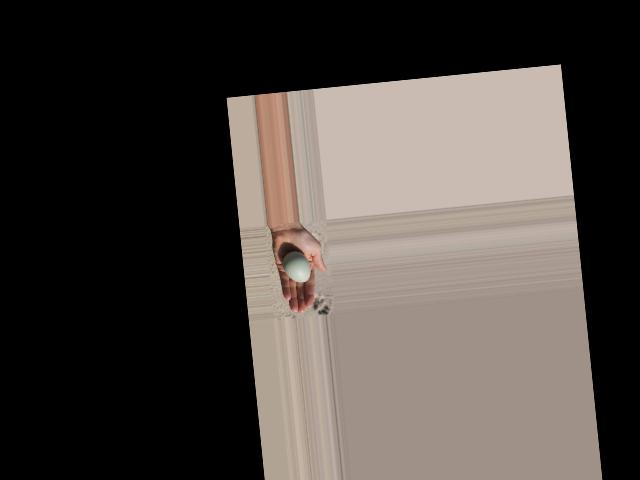egg: (281, 250, 311, 285)
